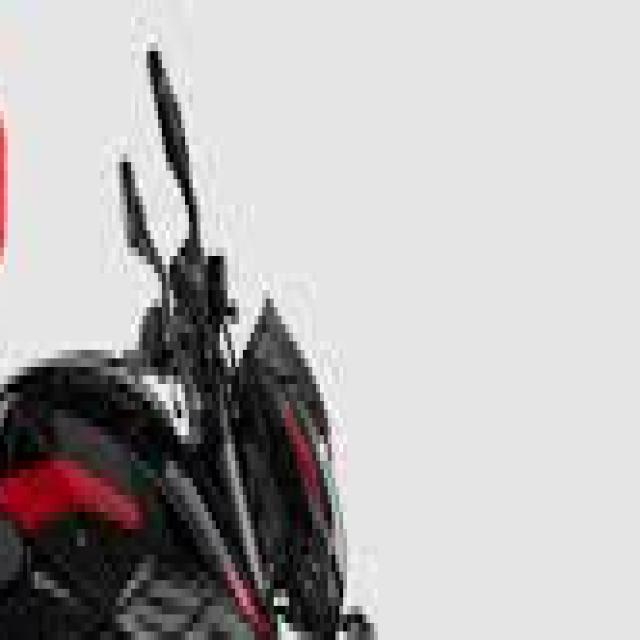bike: (0, 290, 501, 640)
